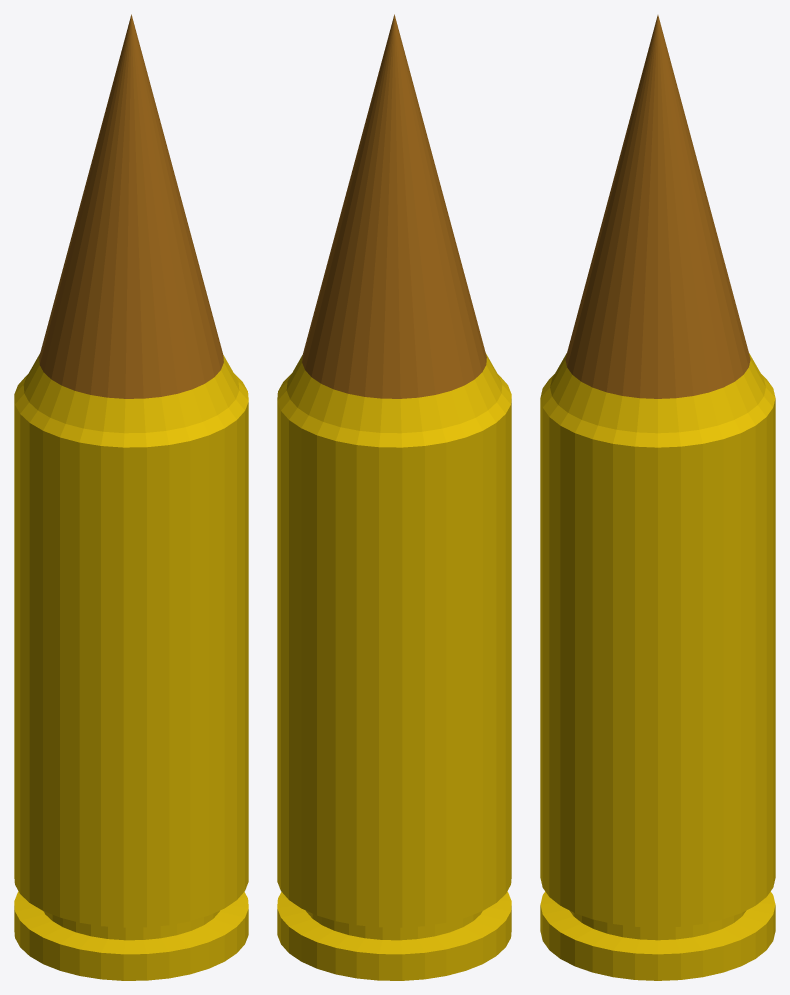
The model's file is Bullet.fbx.
3 renders of one model, left to right at view 1: azimuth 30°, elevation 25°; view 2: azimuth 150°, elevation 25°; view 3: azimuth 270°, elevation 25°, orthographic.
Parts seen in each view (by area): view 1: Bullet; view 2: Bullet; view 3: Bullet.
Part boxes in pixels (x1=…): Bullet: x1=14, y1=14, x2=248, y2=980; Bullet: x1=277, y1=14, x2=511, y2=980; Bullet: x1=540, y1=15, x2=775, y2=980.
Size of the model in its own units: 200 by 861 by 200.
